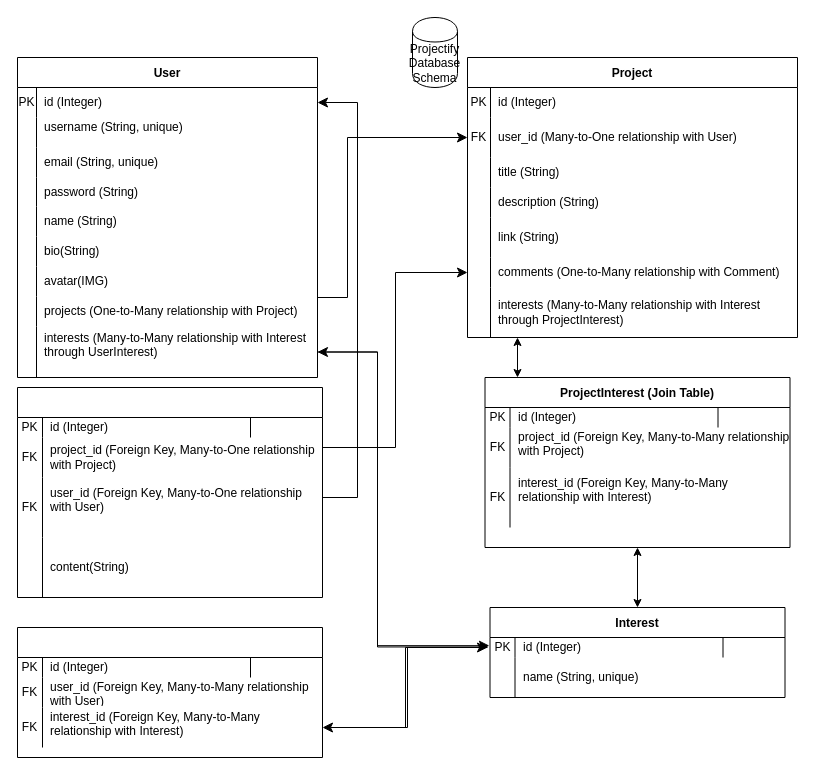
Image size: 815x775. Some labels were removed from this diagram. Here are the shapes that lost their labels. From the top down, the box of each, then its label:
(16, 386, 322, 598): Comment
(16, 626, 322, 758): UserInterest(Join Table)
